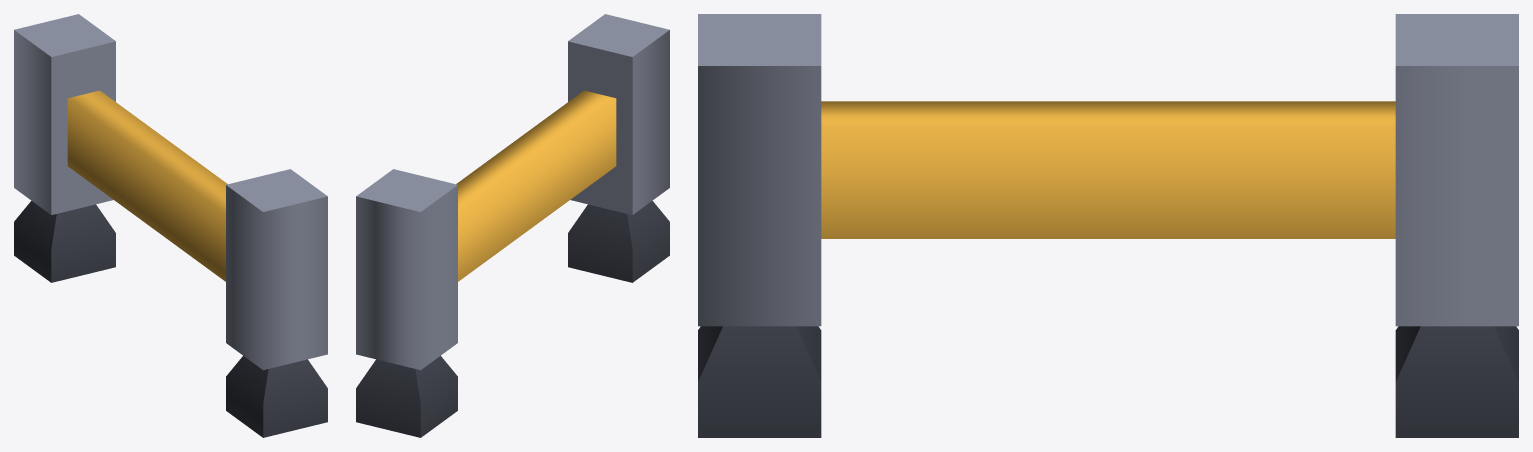
Rendered from StructureYellowShort-transformed.glb.
3 renders of one model, left to right at view 1: azimuth 30°, elevation 25°; view 2: azimuth 150°, elevation 25°; view 3: azimuth 270°, elevation 25°, orthographic. The views are drawn at different scales.
Parts seen in each view (by area): view 1: structure-yellow-short; view 2: structure-yellow-short; view 3: structure-yellow-short.
Boxes of the visible parts, box(x1,y1,x2,y2) form: structure-yellow-short: box(14, 14, 327, 437); structure-yellow-short: box(356, 14, 669, 437); structure-yellow-short: box(698, 14, 1518, 437).
Bounding box in the file's own units: 0.15 × 0.5 × 1.
